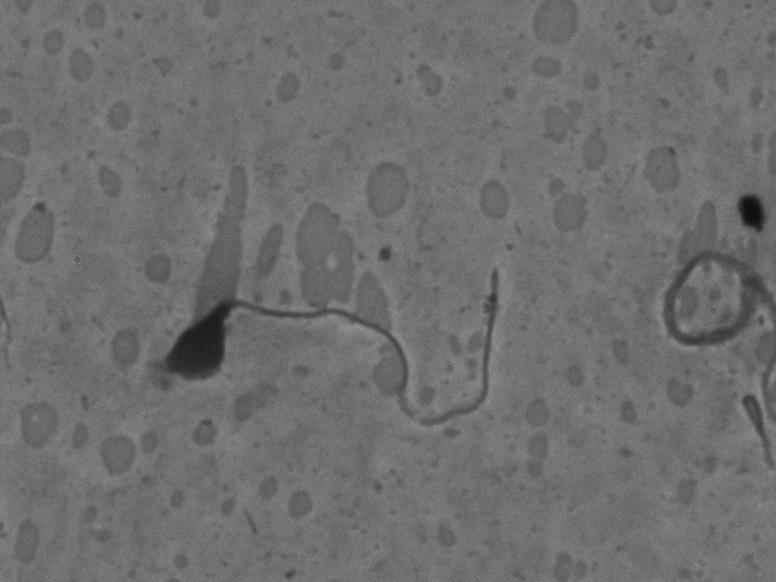Abnormal: (130, 222, 515, 460)
